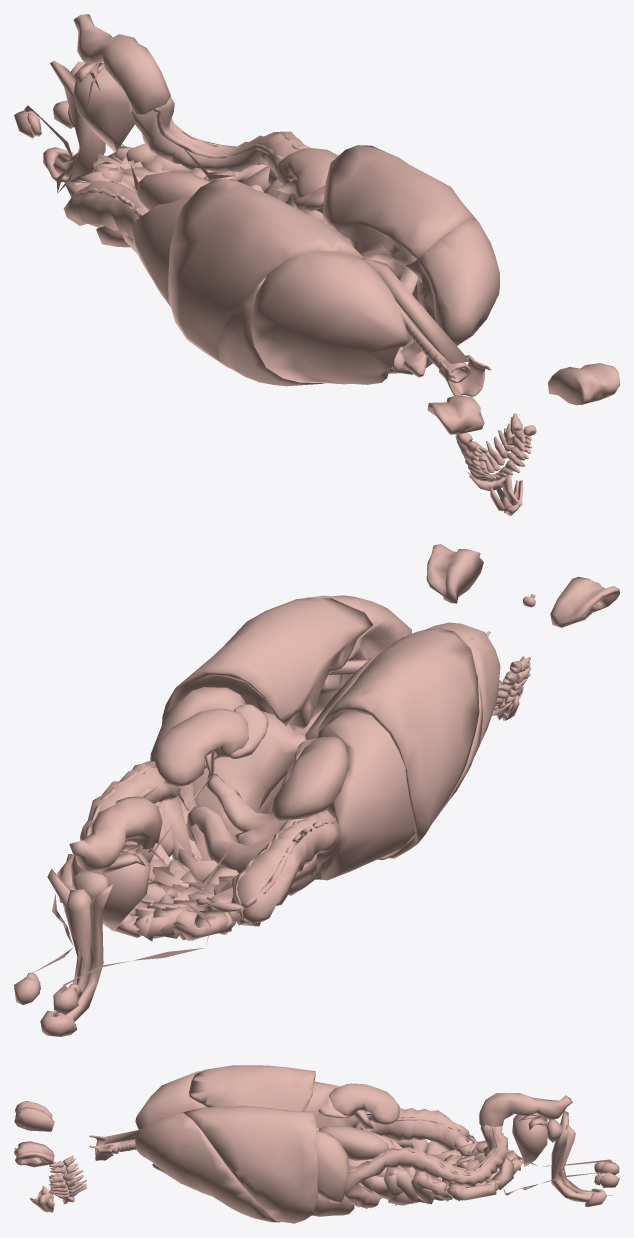
Rendered from overview__organs.d9d05cae57.glb.
3 renders of one model, top to bottom at view 1: azimuth 30°, elevation 25°; view 2: azimuth 150°, elevation 25°; view 3: azimuth 270°, elevation 25°, orthographic. The views are drawn at different scales.
Visible parts, largest first — view 1: FMA7333, FMA7337, FMA7371, FMA7370, FMA14543nsn, FMA14544, FMA52780, FMA7208, FMA15900, FMA7383, FMA7197, FMA7131 (+8 smaller); view 2: FMA7337, FMA7371, FMA7197, FMA14543nsn, FMA7208, FMA7148, FMA7205, FMA7207, FMA52780, FMA7204, FMA14544, FMA7370 (+14 smaller); view 3: FMA7371, FMA14543nsn, FMA7370, FMA7337, FMA7207, FMA7208, FMA14544, FMA7204, FMA7196, FMA52780, FMA7333, FMA7205 (+16 smaller).
Boxes of the visible parts, left/top/right/bottom form: FMA7333: left=251, top=252, right=410, bottom=384; FMA7337: left=168, top=179, right=364, bottom=368; FMA7371: left=323, top=145, right=476, bottom=296; FMA7370: left=388, top=219, right=499, bottom=374; FMA14543nsn: left=63, top=97, right=322, bottom=238; FMA14544: left=73, top=14, right=170, bottom=114; FMA52780: left=427, top=363, right=619, bottom=434; FMA7208: left=64, top=143, right=267, bottom=247; FMA15900: left=73, top=65, right=134, bottom=151; FMA7383: left=218, top=277, right=324, bottom=386; FMA7197: left=132, top=196, right=191, bottom=306; FMA7131: left=364, top=258, right=469, bottom=363; FMA7337: left=317, top=628, right=479, bottom=858; FMA7371: left=162, top=598, right=372, bottom=729; FMA7197: left=258, top=711, right=415, bottom=880; FMA14543nsn: left=79, top=761, right=339, bottom=923; FMA7208: left=57, top=854, right=269, bottom=941; FMA7148: left=194, top=711, right=306, bottom=841; FMA7205: left=155, top=708, right=248, bottom=786; FMA7207: left=148, top=797, right=317, bottom=896; FMA52780: left=426, top=544, right=619, bottom=627; FMA7204: left=272, top=736, right=348, bottom=821; FMA14544: left=69, top=796, right=162, bottom=872; FMA7370: left=290, top=595, right=411, bottom=730; FMA7371: left=182, top=1105, right=317, bottom=1223; FMA14543nsn: left=344, top=1108, right=507, bottom=1208; FMA7370: left=135, top=1112, right=279, bottom=1222; FMA7337: left=189, top=1065, right=315, bottom=1111; FMA7207: left=363, top=1136, right=452, bottom=1205; FMA7208: left=425, top=1136, right=523, bottom=1200; FMA14544: left=479, top=1093, right=572, bottom=1127; FMA7204: left=329, top=1083, right=399, bottom=1124; FMA7196: left=316, top=1131, right=349, bottom=1203; FMA52780: left=14, top=1101, right=54, bottom=1167; FMA7333: left=135, top=1071, right=206, bottom=1129; FMA7205: left=319, top=1126, right=388, bottom=1160.
Bounding box in the file's own units: 253 × 193 × 855.
